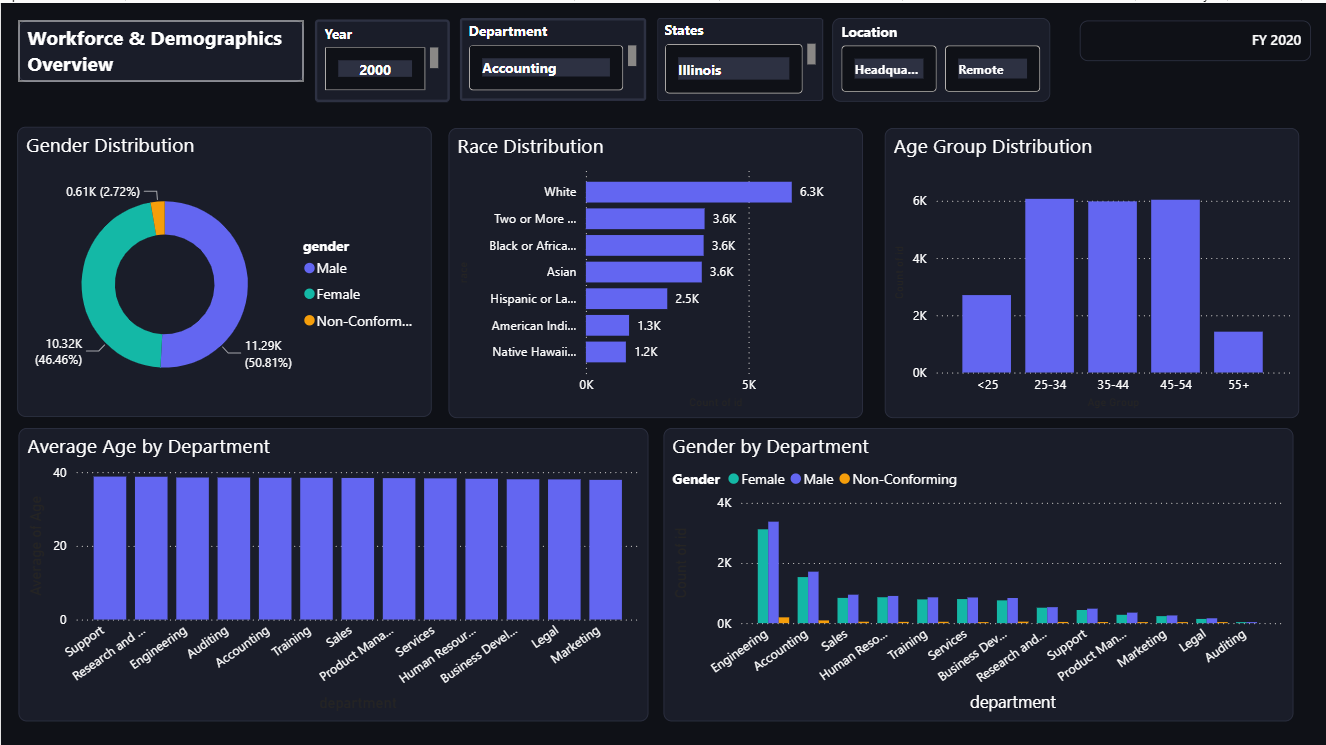

The dashboard page shown, as its layout file describes it:
{"tool":"powerbi","page":{"name":"Workforce & Demographics","canvas":[1280,720],"ordinal":1},"visuals":[{"type":"group","id":"g1","title":"Group 1","box":[303.4,14.1,710.4,81.9],"z":0},{"type":"advancedSlicerVisual","title":"Department","fields":{"Values":["project_hr_analytics HR.department"]},"box":[443.4,14.1,180,80],"z":1000,"group":"g1"},{"type":"donutChart","title":"Gender Distribution","fields":{"Y":["CountNonNull(project_hr_analytics HR.id)"],"Category":["project_hr_analytics HR.gender"]},"box":[16,120,400,280],"z":1000},{"type":"advancedSlicerVisual","fields":{"Values":["Dim Date.Year"]},"box":[303.4,15.4,130,80],"z":2000,"group":"g1"},{"type":"barChart","title":"Race Distribution","fields":{"Category":["project_hr_analytics HR.race"],"Y":["CountNonNull(project_hr_analytics HR.id)"]},"box":[432,120.3,400,280],"z":2000},{"type":"advancedSlicerVisual","title":"Location","fields":{"Values":["project_hr_analytics HR.location"]},"box":[803.4,14.1,210,81],"z":3000,"group":"g1"},{"type":"columnChart","title":"Age Group Distribution","fields":{"Category":["project_hr_analytics HR.Age Group"],"Y":["CountNonNull(project_hr_analytics HR.id)"]},"box":[852.5,120.3,400,280],"z":3000},{"type":"advancedSlicerVisual","title":"States","fields":{"Values":["project_hr_analytics HR.location_state"]},"box":[633.4,14.1,160,80],"z":4000,"group":"g1"},{"type":"clusteredColumnChart","title":"Average Age by Department","fields":{"Category":["project_hr_analytics HR.department"],"Y":["Avg(project_hr_analytics HR.Age)"]},"box":[16.6,409.6,608,282.9],"z":4000},{"type":"clusteredColumnChart","title":"Gender by Department","fields":{"Category":["project_hr_analytics HR.department"],"Series":["project_hr_analytics HR.gender"],"Y":["CountNonNull(project_hr_analytics HR.id)"]},"box":[640,409.6,608,282.9],"z":5000},{"type":"textbox","title":"Workforce & Demographics Overview","box":[16.6,16.6,275.2,58.9],"z":6000},{"type":"textbox","box":[1040.6,16.6,223,39],"z":7000}]}

Visuals, with their boxes in screenshot pixels (x1, y1, x2, y2), scaled from the page's 1280x720 canvas onto the 1326x745 screenshot:
"Group 1" group: detection(314, 15, 1050, 99)
"Department" advancedSlicerVisual: detection(459, 15, 646, 97)
"Gender Distribution" donutChart: detection(17, 124, 431, 414)
advancedSlicerVisual - Dim Date.Year: detection(314, 16, 449, 99)
"Race Distribution" barChart: detection(448, 124, 862, 414)
"Location" advancedSlicerVisual: detection(832, 15, 1050, 98)
"Age Group Distribution" columnChart: detection(883, 124, 1298, 414)
"States" advancedSlicerVisual: detection(656, 15, 822, 97)
"Average Age by Department" clusteredColumnChart: detection(17, 424, 647, 717)
"Gender by Department" clusteredColumnChart: detection(663, 424, 1293, 717)
"Workforce & Demographics Overview" textbox: detection(17, 17, 302, 78)
textbox: detection(1078, 17, 1309, 58)
